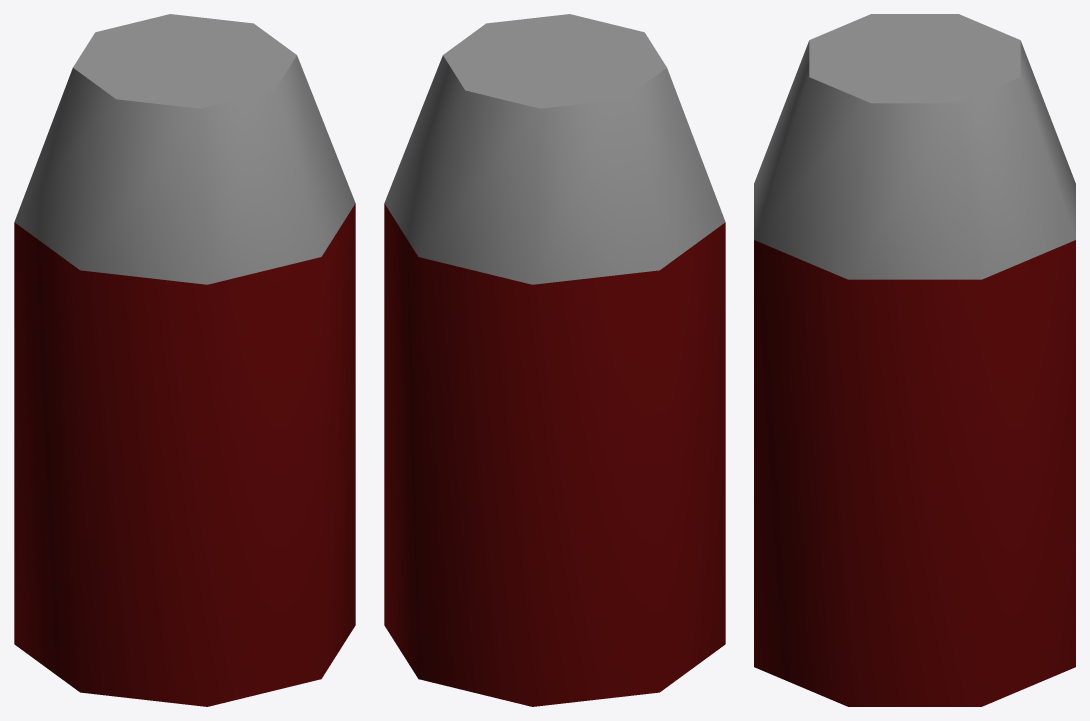
File: monsterB.FBX
3 views of the same model, side by side, from view 1: azimuth 30°, elevation 25°; view 2: azimuth 150°, elevation 25°; view 3: azimuth 270°, elevation 25° (orthographic).
Parts seen in each view (by area): view 1: MonsterB; view 2: MonsterB; view 3: MonsterB.
Boxes of the visible parts, x1,y1,x2,y2 form: MonsterB: [14, 14, 355, 706]; MonsterB: [384, 14, 725, 706]; MonsterB: [754, 14, 1075, 706].
Bounding box in the file's own units: 1.19 × 1.19 × 2.36.
